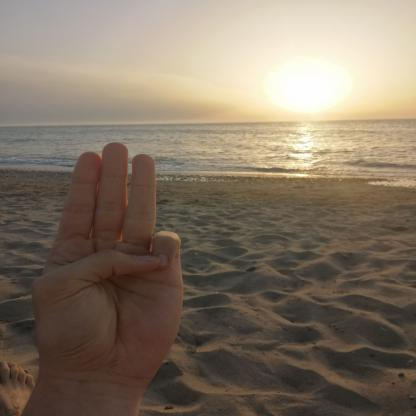THA: (9, 132, 200, 392)
